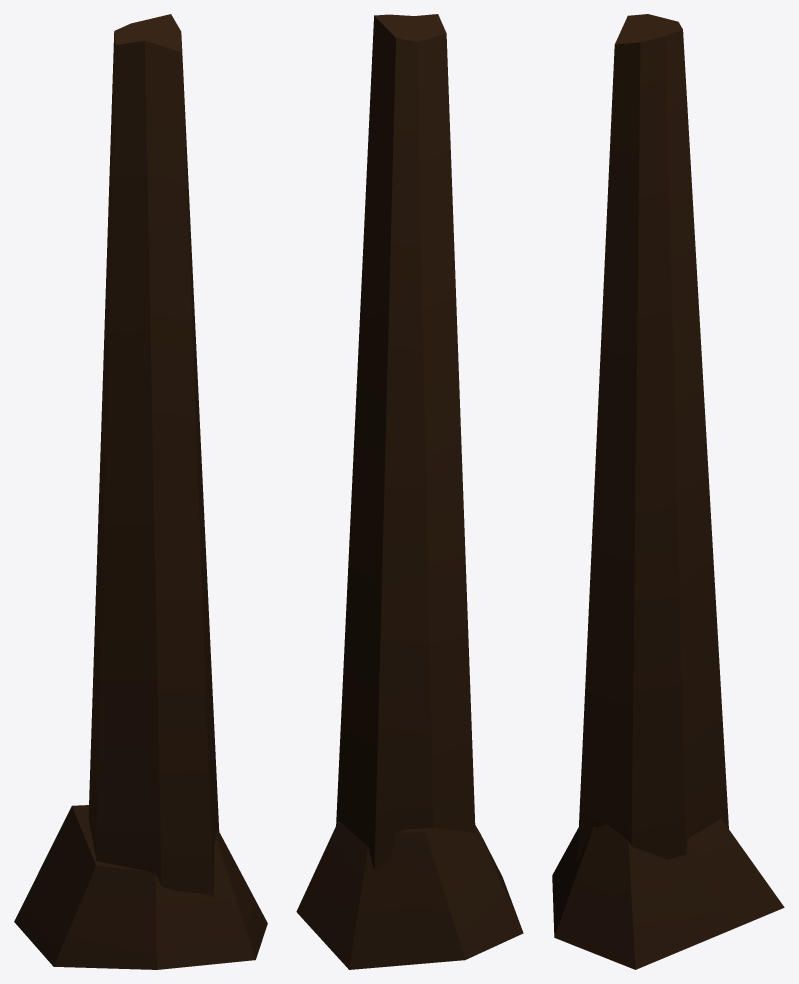
File: pineT.glb
3 views of the same model, side by side, from view 1: azimuth 30°, elevation 25°; view 2: azimuth 150°, elevation 25°; view 3: azimuth 270°, elevation 25° (orthographic). The views are drawn at different scales.
Parts seen in each view (by area): view 1: pineT; view 2: pineT; view 3: pineT.
Part boxes in pixels (box(x1,y1,x2,y2)): pineT: box(14, 14, 267, 969); pineT: box(296, 14, 523, 969); pineT: box(552, 14, 784, 969).
Size of the model in its own units: 0.2508 by 1.02 by 0.2399.
